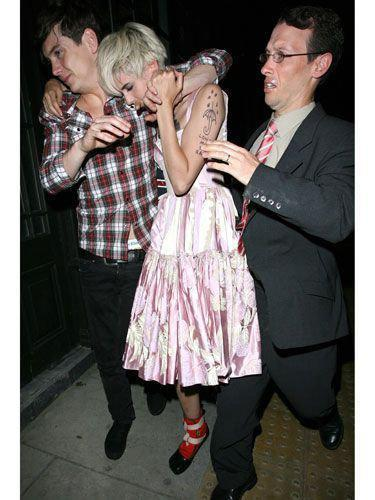Drunk: (260, 27, 307, 105), (44, 30, 90, 94), (110, 62, 155, 109)
